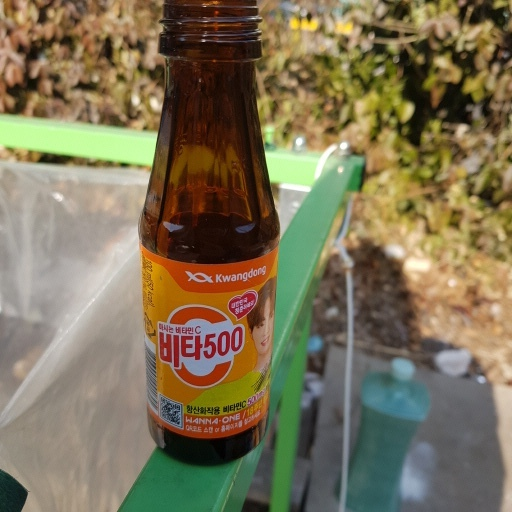Glass_3: (134, 1, 283, 467)
